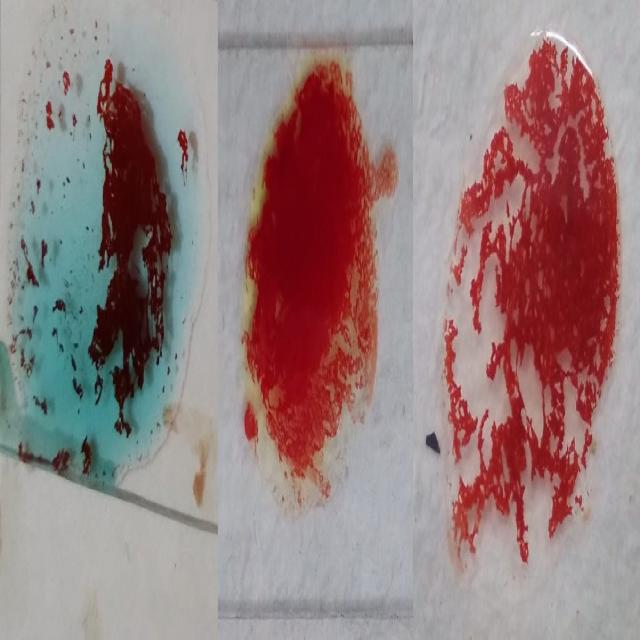A: (12, 6, 201, 469)
B: (241, 34, 381, 507)
D: (430, 27, 611, 554)
